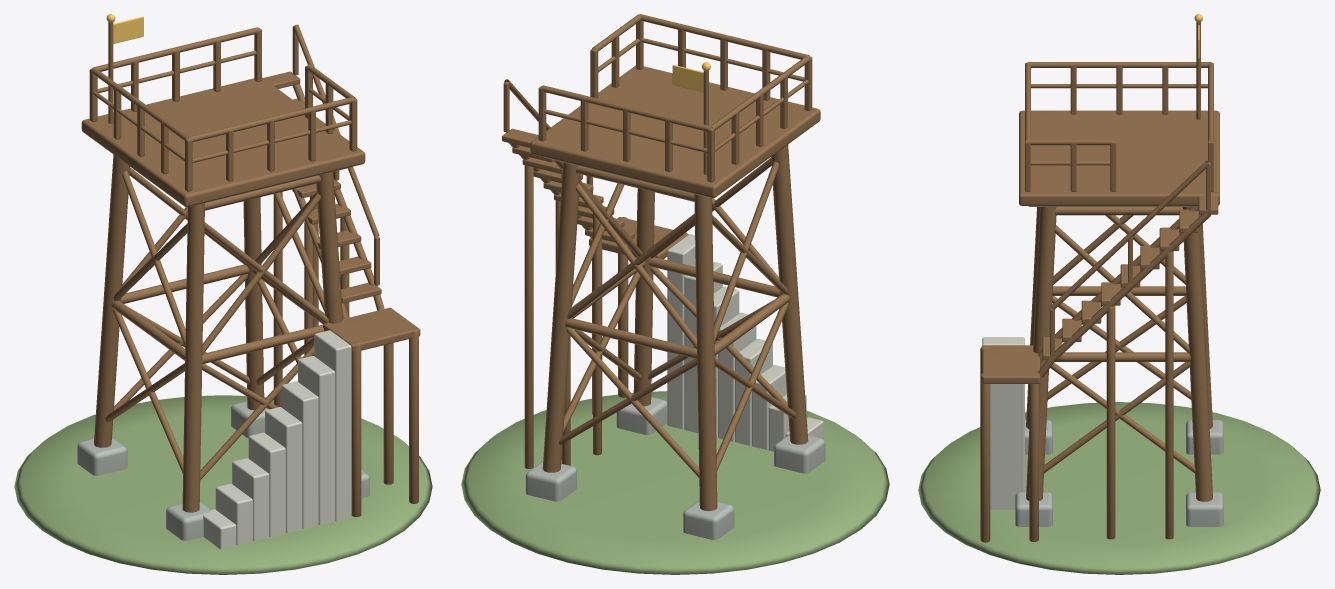
Rendered from decor-lookout.glb.
3 views of the same model, side by side, from view 1: azimuth 30°, elevation 25°; view 2: azimuth 150°, elevation 25°; view 3: azimuth 270°, elevation 25° (orthographic). The views are drawn at different scales.
Visible parts, largest first — view 1: lookout-wood.008, lookout-moss.008, lookout-lightstone.008, lookout-stone.008, lookout-gold.008; view 2: lookout-wood.008, lookout-moss.008, lookout-lightstone.008, lookout-stone.008, lookout-gold.008; view 3: lookout-wood.008, lookout-moss.008, lookout-lightstone.008, lookout-stone.008.
Boxes of the visible parts, bbox=[...] form: lookout-wood.008: bbox=[81, 22, 420, 516]; lookout-moss.008: bbox=[14, 395, 432, 574]; lookout-lightstone.008: bbox=[203, 330, 351, 549]; lookout-stone.008: bbox=[77, 167, 369, 540]; lookout-gold.008: bbox=[106, 14, 143, 43]; lookout-wood.008: bbox=[502, 14, 820, 511]; lookout-moss.008: bbox=[461, 391, 889, 574]; lookout-lightstone.008: bbox=[667, 234, 823, 451]; lookout-stone.008: bbox=[525, 157, 825, 539]; lookout-gold.008: bbox=[672, 62, 710, 92]; lookout-wood.008: bbox=[980, 22, 1219, 542]; lookout-moss.008: bbox=[918, 402, 1320, 574]; lookout-lightstone.008: bbox=[982, 337, 1024, 509]; lookout-stone.008: bbox=[1015, 206, 1223, 526].
Bounding box in the file's own units: 6.6 × 8 × 6.6.
